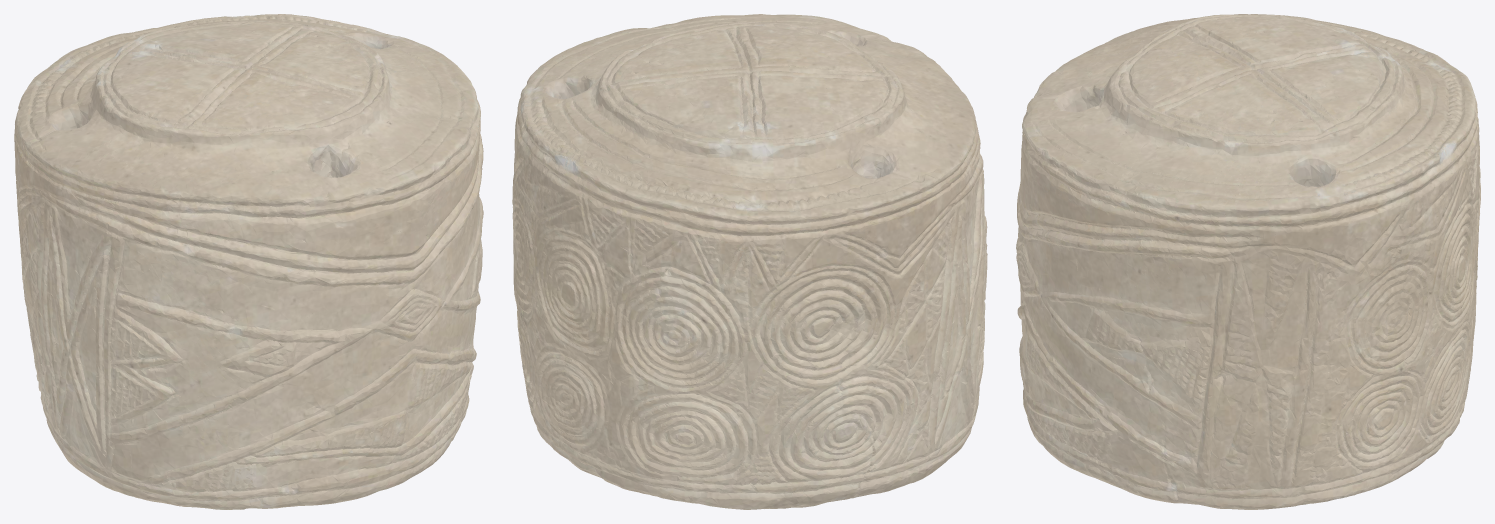
The model's file is burton-agnes-drum.glb.
3 renders of one model, left to right at view 1: azimuth 30°, elevation 25°; view 2: azimuth 150°, elevation 25°; view 3: azimuth 270°, elevation 25°, orthographic.
Visible parts, largest first — view 1: BurtonAgnes_remesh; view 2: BurtonAgnes_remesh; view 3: BurtonAgnes_remesh.
Part boxes in pixels (x1,y1,x2,y2): BurtonAgnes_remesh: [14, 14, 483, 509]; BurtonAgnes_remesh: [512, 14, 987, 509]; BurtonAgnes_remesh: [1016, 14, 1480, 509].
Bounding box in the file's own units: 119 × 103 × 116.
Materials: 1 (1 with a texture image).
